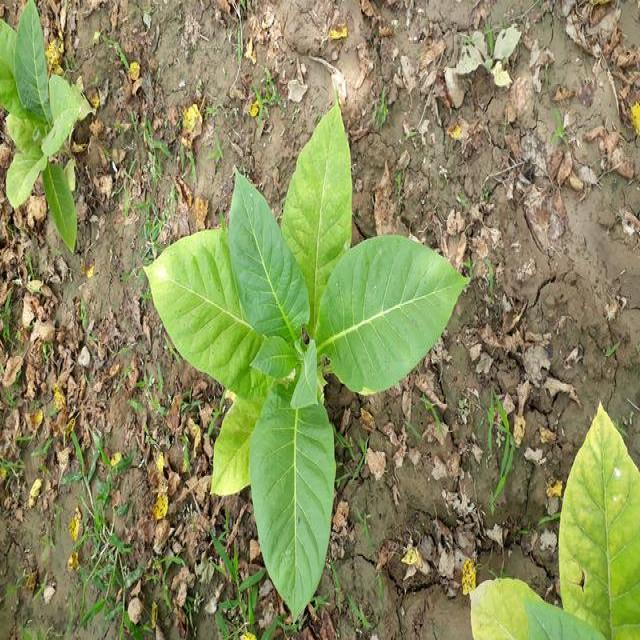crop: (151, 106, 459, 596), (468, 425, 639, 640), (4, 10, 88, 248)
